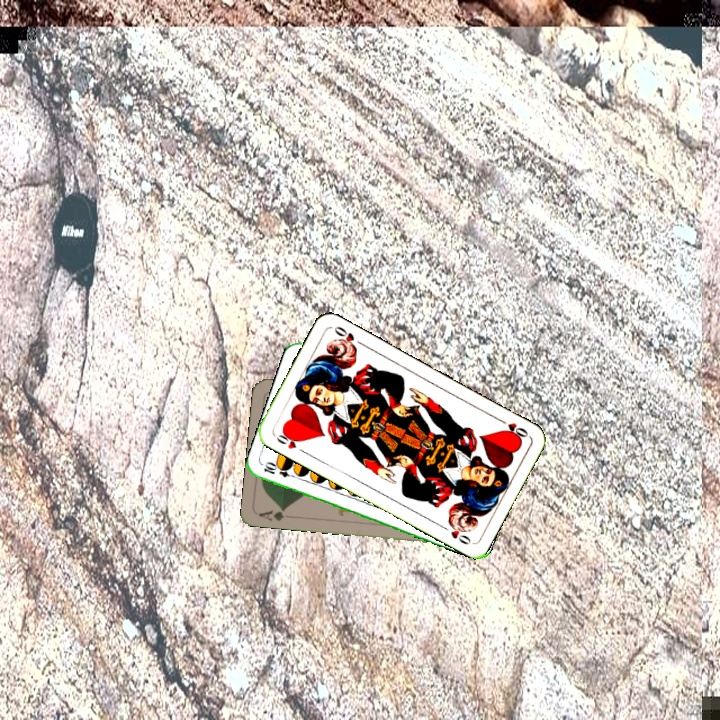E10: (260, 460, 300, 481)
GA: (255, 505, 289, 524)
HO: (272, 427, 308, 456), (494, 415, 531, 442)
